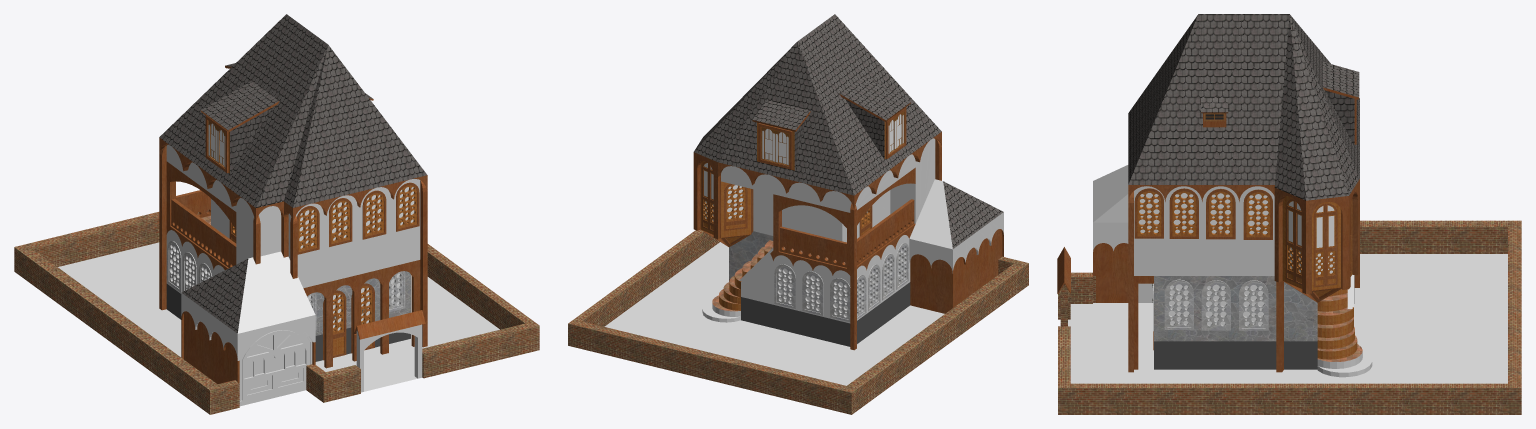
The picture shows the model from 3 angles, left to right: view 1: azimuth 30°, elevation 25°; view 2: azimuth 150°, elevation 25°; view 3: azimuth 270°, elevation 25°; orthographic projection. The views are drawn at different scales.
Parts seen in each view (by area): view 1: _(Loose Entity), G-Object; view 2: _(Loose Entity), G-Object, G-Object.001; view 3: _(Loose Entity), G-Object.001, G-Object.002.
Boxes of the visible parts, left/top/right/bottom form: _(Loose Entity): left=14, top=14, right=539, bottom=414; G-Object: left=200, top=80, right=279, bottom=173; _(Loose Entity): left=568, top=14, right=1028, bottom=414; G-Object: left=839, top=75, right=910, bottom=159; G-Object.001: left=752, top=100, right=810, bottom=170; _(Loose Entity): left=1057, top=14, right=1521, bottom=414; G-Object.001: left=1322, top=62, right=1359, bottom=146; G-Object.002: left=1201, top=97, right=1228, bottom=127.
Size of the model in its own units: 11.9 by 10.68 by 13.95.
Materials: 20 (15 with a texture image).
